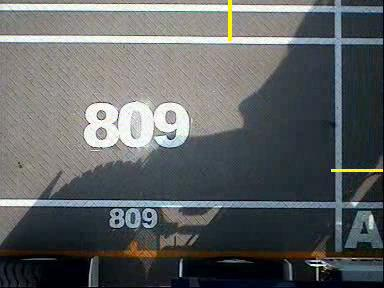groundmarker_2: (196, 50, 223, 101), (195, 226, 221, 277)
